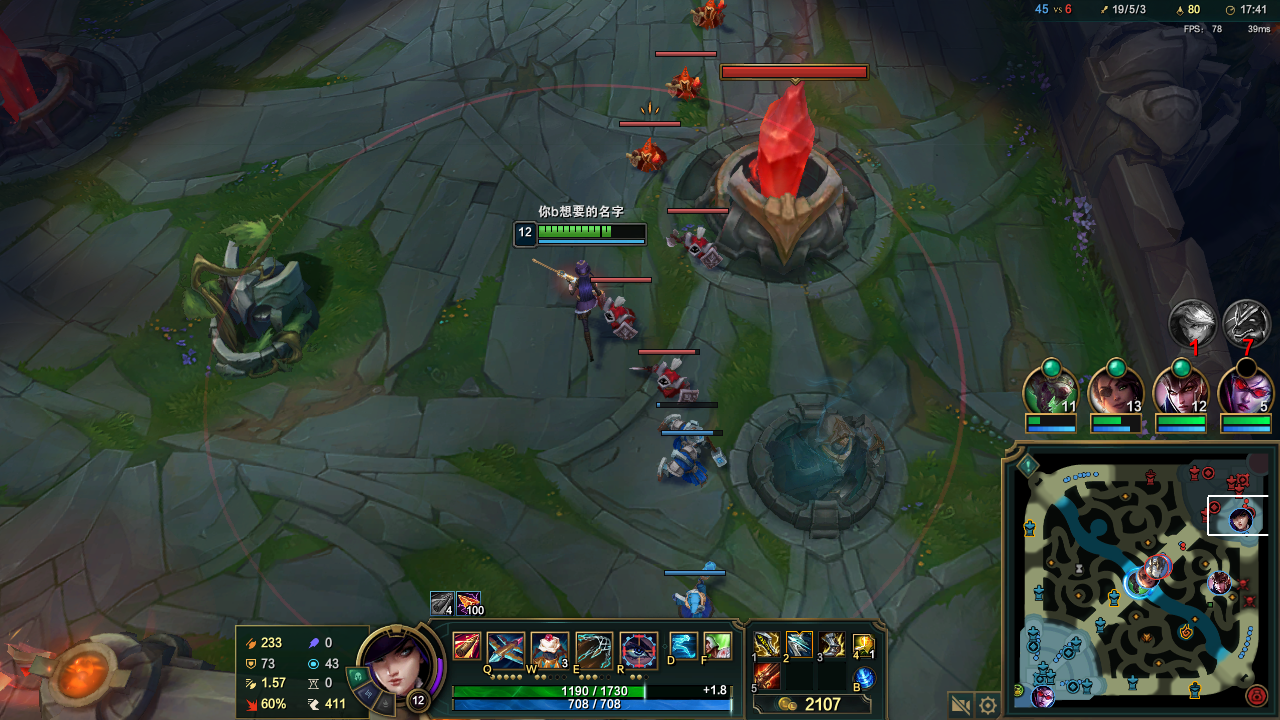DFSJ: (715, 65, 874, 269)
DFXB: (669, 218, 717, 269), (649, 361, 691, 392), (667, 75, 705, 104), (628, 143, 666, 171), (600, 298, 638, 326), (692, 5, 727, 31)
KF: (784, 632, 810, 647)
WFXB: (669, 448, 715, 483), (663, 418, 714, 449), (669, 583, 712, 608)
